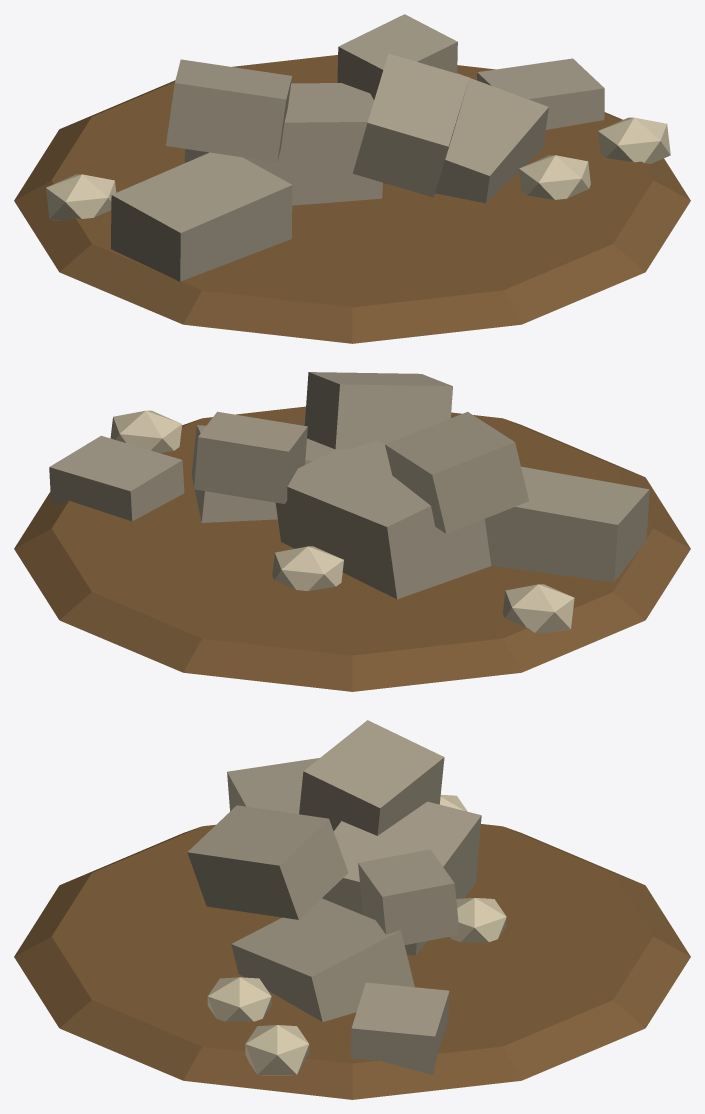
The model's file is siege_rubble_stone.glb.
3 renders of one model, top to bottom at view 1: azimuth 30°, elevation 25°; view 2: azimuth 150°, elevation 25°; view 3: azimuth 270°, elevation 25°, orthographic.
Parts seen in each view (by area): view 1: siege_rubble_stone; view 2: siege_rubble_stone; view 3: siege_rubble_stone.
Boxes of the visible parts, <box> form: siege_rubble_stone: <box>14,14,690,343</box>; siege_rubble_stone: <box>14,372,690,691</box>; siege_rubble_stone: <box>14,720,690,1099</box>.
Size of the model in its own units: 7.2 by 2 by 7.2.
